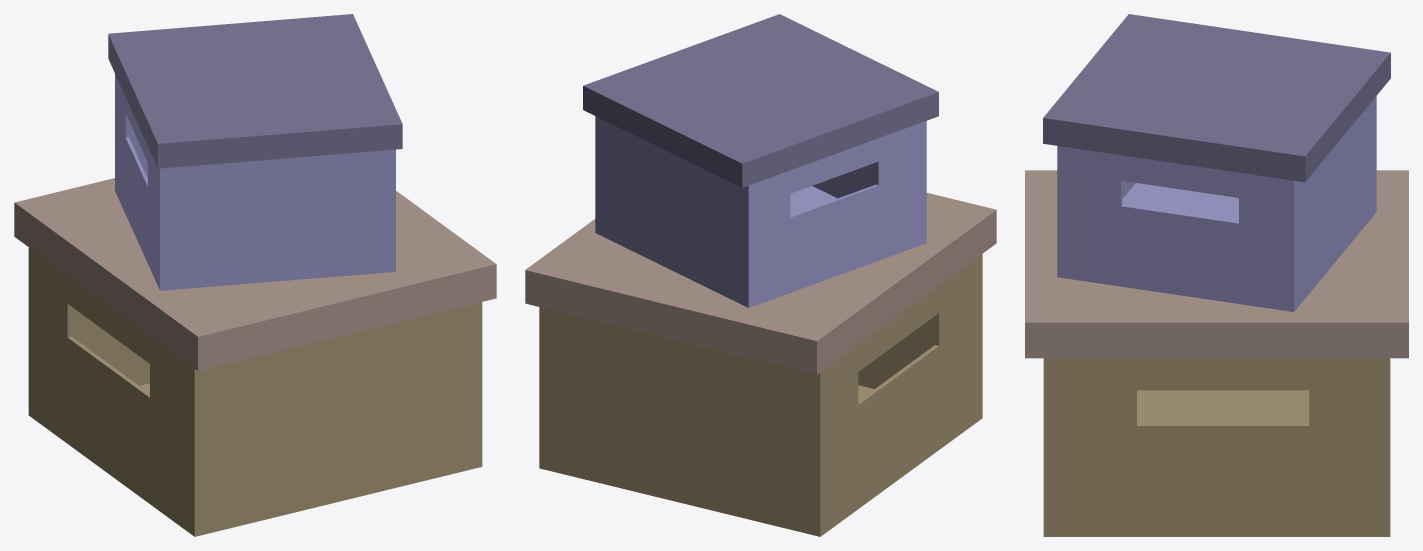
The model's file is colored boxes deskroom.fbx.
The picture shows the model from 3 angles, left to right: view 1: azimuth 30°, elevation 25°; view 2: azimuth 150°, elevation 25°; view 3: azimuth 270°, elevation 25°; orthographic projection. The views are drawn at different scales.
Visible parts, largest first — view 1: pCube1, pCube2, pCube3, pCube4; view 2: pCube1, pCube4, pCube3, pCube2; view 3: pCube1, pCube4, pCube3, pCube2.
Boxes of the visible parts, <box> form: pCube1: <box>28,247,482,536</box>; pCube2: <box>14,178,496,370</box>; pCube3: <box>108,14,402,168</box>; pCube4: <box>115,74,395,290</box>; pCube1: <box>539,254,982,536</box>; pCube4: <box>595,116,926,307</box>; pCube3: <box>583,14,938,187</box>; pCube2: <box>525,193,996,374</box>; pCube1: <box>1043,358,1390,536</box>; pCube4: <box>1057,96,1376,311</box>; pCube3: <box>1043,14,1390,182</box>; pCube2: <box>1025,170,1408,358</box>.
Bounding box in the file's own units: 0.9301 × 1.08 × 0.9914.
